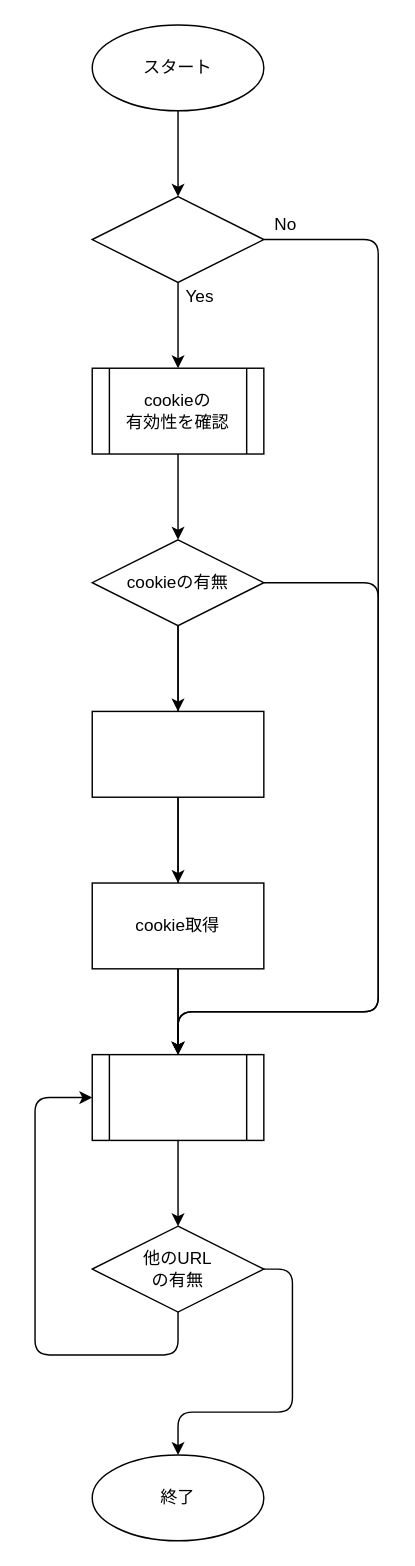
This 415x1566 diagram has some shape labels left out. Here are the shapes that lost their labels. From the top down, the centre of each, then its label:
At pixel 177 238: "1080p以上のDL".
At pixel 177 753: "SMS認証".
At pixel 177 1096: "DL処理".
